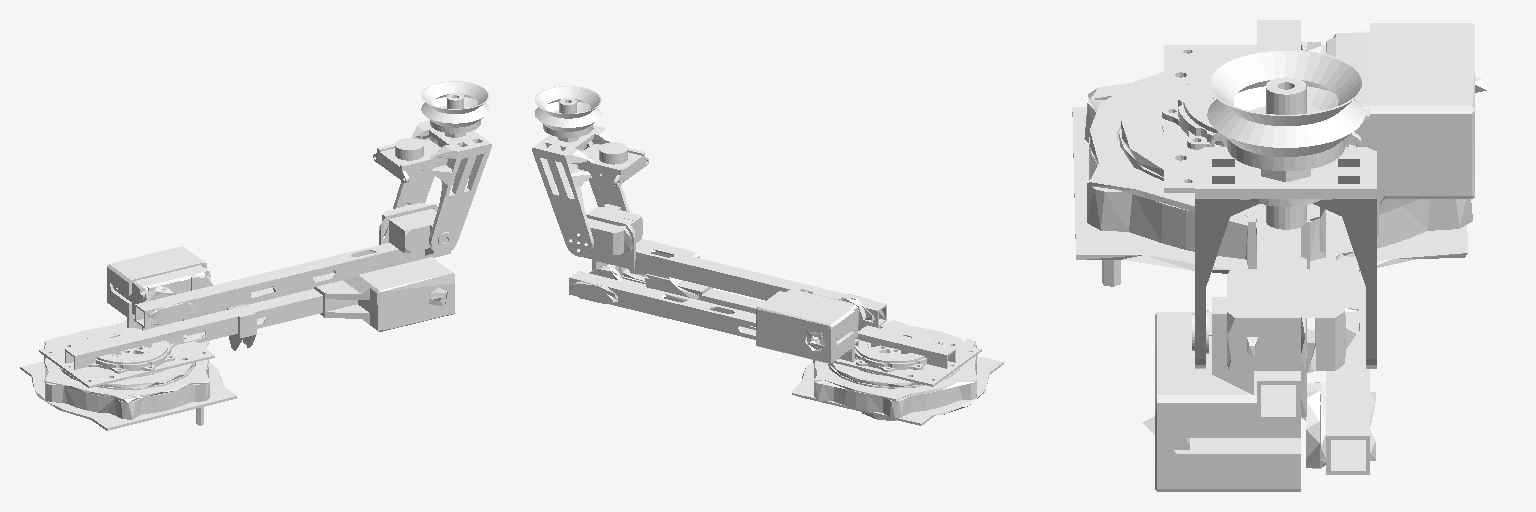
robot.urdf — arm:
<?xml version="1.0" encoding="utf-8"?>
<!-- This URDF was automatically created by SolidWorks to URDF Exporter! Originally created by Stephen Brawner (brawner@gmail.com) 
     Commit Version: 1.6.0-4-g7f85cfe  Build Version: 1.6.7995.38578
     For more information, please see http://wiki.ros.org/sw_urdf_exporter -->
<robot
  name="arm">
  <link
    name="base_link">
    <inertial>
      <origin
        xyz="-4.16333634234434E-17 1.38777878078145E-17 -2.08166817117217E-17"
        rpy="0 0 0" />
      <mass
        value="0.0134048748255871" />
      <inertia
        ixx="8.15664414581191E-06"
        ixy="-4.92549658828376E-19"
        ixz="1.42746937066133E-20"
        iyy="2.30160219812119E-05"
        iyz="2.92983084473352E-20"
        izz="3.11637295438067E-05" />
    </inertial>
    <visual>
      <origin
        xyz="0 0 0"
        rpy="0 0 0" />
      <geometry>
        <mesh
          filename="package://arm/model/base_link.STL" />
      </geometry>
      <material
        name="">
        <color
          rgba="1 1 1 1" />
      </material>
    </visual>
    <collision>
      <origin
        xyz="0 0 0"
        rpy="0 0 0" />
      <geometry>
        <mesh
          filename="package://arm/model/base_link.STL" />
      </geometry>
    </collision>
  </link>
  <link
    name="link1">
    <inertial>
      <origin
        xyz="0.0920609232387273 -0.00496817793925926 -0.00259994883421994"
        rpy="0 0 0" />
      <mass
        value="0.250946449257902" />
      <inertia
        ixx="0.000195452864570895"
        ixy="3.28012695923891E-06"
        ixz="-1.73763099753132E-07"
        iyy="0.000348150687647112"
        iyz="3.76423514416653E-08"
        izz="0.000512735677284907" />
    </inertial>
    <visual>
      <origin
        xyz="0 0 0"
        rpy="0 0 0" />
      <geometry>
        <mesh
          filename="package://arm/model/link1.STL" />
      </geometry>
      <material
        name="">
        <color
          rgba="1 1 1 1" />
      </material>
    </visual>
    <collision>
      <origin
        xyz="0 0 0"
        rpy="0 0 0" />
      <geometry>
        <mesh
          filename="package://arm/model/link1.STL" />
      </geometry>
    </collision>
  </link>
  <joint
    name="joint1"
    type="revolute">
    <origin
      xyz="0 0 0.0435"
      rpy="0 0 0" />
    <parent
      link="base_link" />
    <child
      link="link1" />
    <axis
      xyz="0 0 -1" />
    <limit
      lower="0"
      upper="0"
      effort="0"
      velocity="0" />
  </joint>
  <link
    name="link2">
    <inertial>
      <origin
        xyz="0.179916394842841 0.0169984712728847 0.0197096590082221"
        rpy="0 0 0" />
      <mass
        value="0.101323280514315" />
      <inertia
        ixx="1.71897165587954E-05"
        ixy="1.98661727395456E-07"
        ixz="1.92073683498403E-07"
        iyy="0.000153609351059155"
        iyz="-1.54564683448125E-06"
        izz="0.000158793556791259" />
    </inertial>
    <visual>
      <origin
        xyz="0 0 0"
        rpy="0 0 0" />
      <geometry>
        <mesh
          filename="package://arm/model/link2.STL" />
      </geometry>
      <material
        name="">
        <color
          rgba="1 1 1 1" />
      </material>
    </visual>
    <collision>
      <origin
        xyz="0 0 0"
        rpy="0 0 0" />
      <geometry>
        <mesh
          filename="package://arm/model/link2.STL" />
      </geometry>
    </collision>
  </link>
  <joint
    name="joint2"
    type="revolute">
    <origin
      xyz="0.26 0.0162 0.009"
      rpy="1.5708 0 -3.1416" />
    <parent
      link="link1" />
    <child
      link="link2" />
    <axis
      xyz="0 0 1" />
    <limit
      lower="0"
      upper="0"
      effort="0"
      velocity="0" />
  </joint>
  <link
    name="link3">
    <inertial>
      <origin
        xyz="0.182111999457503 -0.0102357254148232 -0.0064873594628372"
        rpy="0 0 0" />
      <mass
        value="0.0609202921364479" />
      <inertia
        ixx="7.44653382060515E-06"
        ixy="-2.45076808200562E-07"
        ixz="7.66769562847702E-09"
        iyy="0.000147772433861992"
        iyz="-6.5904787849238E-08"
        izz="0.000144927471263285" />
    </inertial>
    <visual>
      <origin
        xyz="0 0 0"
        rpy="0 0 0" />
      <geometry>
        <mesh
          filename="package://arm/model/link3.STL" />
      </geometry>
      <material
        name="">
        <color
          rgba="1 1 1 1" />
      </material>
    </visual>
    <collision>
      <origin
        xyz="0 0 0"
        rpy="0 0 0" />
      <geometry>
        <mesh
          filename="package://arm/model/link3.STL" />
      </geometry>
    </collision>
  </link>
  <joint
    name="joint3"
    type="revolute">
    <origin
      xyz="0.224 0.0243 -0.0087"
      rpy="0 0 3.1416" />
    <parent
      link="link2" />
    <child
      link="link3" />
    <axis
      xyz="0 0 -1" />
    <limit
      lower="0"
      upper="0"
      effort="0"
      velocity="0" />
  </joint>
  <link
    name="link4">
    <inertial>
      <origin
        xyz="0.0526633455250138 0.00467442477991548 -0.026120249355349"
        rpy="0 0 0" />
      <mass
        value="0.0555492180755332" />
      <inertia
        ixx="3.29855114172862E-05"
        ixy="-4.94697293645599E-06"
        ixz="5.26054002825307E-07"
        iyy="4.3307924599691E-05"
        iyz="1.7103722203537E-07"
        izz="2.92398546244003E-05" />
    </inertial>
    <visual>
      <origin
        xyz="0 0 0"
        rpy="0 0 0" />
      <geometry>
        <mesh
          filename="package://arm/model/link4.STL" />
      </geometry>
      <material
        name="">
        <color
          rgba="1 1 1 1" />
      </material>
    </visual>
    <collision>
      <origin
        xyz="0 0 0"
        rpy="0 0 0" />
      <geometry>
        <mesh
          filename="package://arm/model/link4.STL" />
      </geometry>
    </collision>
  </link>
  <joint
    name="joint4"
    type="revolute">
    <origin
      xyz="0.238 -0.0175 0.021"
      rpy="0 0 -1.5708" />
    <parent
      link="link3" />
    <child
      link="link4" />
    <axis
      xyz="0 0 1" />
    <limit
      lower="0"
      upper="0"
      effort="0"
      velocity="0" />
  </joint>
  <link
    name="link5">
    <inertial>
      <origin
        xyz="2.9692609482268E-11 -5.18379228431343E-11 -0.0186321334399323"
        rpy="0 0 0" />
      <mass
        value="0.0226058648535915" />
      <inertia
        ixx="4.59581113193459E-06"
        ixy="-4.2351647362715E-22"
        ixz="2.53216413682963E-21"
        iyy="4.59581113193459E-06"
        iyz="3.54199674794229E-20"
        izz="5.31545952653216E-06" />
    </inertial>
    <visual>
      <origin
        xyz="0 0 0"
        rpy="0 0 0" />
      <geometry>
        <mesh
          filename="package://arm/model/link5.STL" />
      </geometry>
      <material
        name="">
        <color
          rgba="1 1 1 1" />
      </material>
    </visual>
    <collision>
      <origin
        xyz="0 0 0"
        rpy="0 0 0" />
      <geometry>
        <mesh
          filename="package://arm/model/link5.STL" />
      </geometry>
    </collision>
  </link>
  <joint
    name="joint5"
    type="fixed">
    <origin
      xyz="0.1058 0.0275 -0.026"
      rpy="0 1.5708 0" />
    <parent
      link="link4" />
    <child
      link="link5" />
    <axis
      xyz="0 0 0" />
  </joint>
</robot>

--- What the picture shows (computed from the rendered views, not written in the file) ---
The picture shows the robot from 3 angles, left to right: view 1: azimuth 30°, elevation 25°; view 2: azimuth 150°, elevation 25°; view 3: azimuth 270°, elevation 25°; orthographic projection.
Model arm with 6 links and 5 joints (4 revolute, 1 fixed), rooted at base_link, posed all joints at 0.
Visible links, largest first — view 1: link1, link3, link4, link2, base_link, link5; view 2: link1, link2, link3, link4, base_link, link5; view 3: link1, link2, link3, link5, link4, base_link.
Boxes of the visible links, x1,y1,x2,y2 form: link1: (20, 257, 454, 430); link3: (135, 203, 450, 327); link4: (373, 120, 491, 253); link2: (107, 246, 313, 330); base_link: (39, 328, 214, 387); link5: (421, 81, 488, 137); link1: (592, 239, 1003, 425); link2: (569, 266, 858, 363); link3: (579, 204, 886, 330); link4: (532, 125, 648, 256); base_link: (833, 325, 981, 386); link5: (535, 86, 601, 142); link1: (1072, 20, 1472, 491); link2: (1306, 23, 1487, 474); link3: (1209, 35, 1355, 420); link5: (1207, 50, 1364, 229); link4: (1192, 132, 1376, 368); base_link: (1162, 45, 1325, 192).
Size in the robot's own frame: 0.404 by 0.1421 by 0.2013 metres.
Meshes: 6 distinct files referenced, 6 mesh visuals loaded (6 binary STL).
